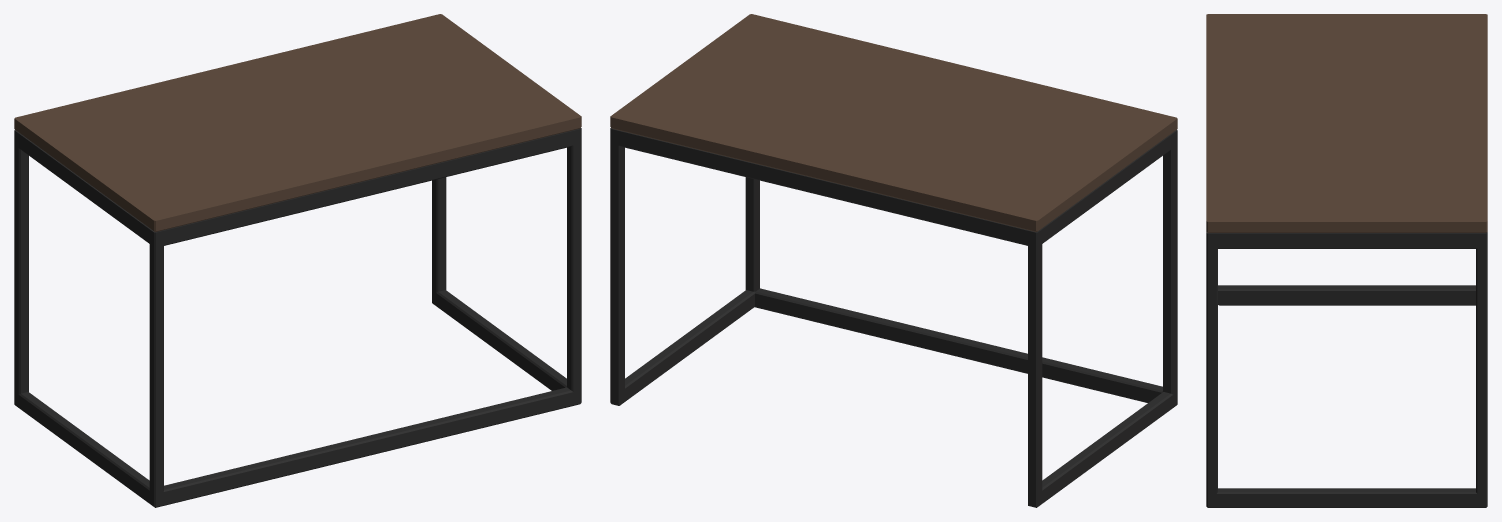
File: table_short.fbx
3 views of the same model, side by side, from view 1: azimuth 30°, elevation 25°; view 2: azimuth 150°, elevation 25°; view 3: azimuth 270°, elevation 25° (orthographic).
Visible parts, largest first — view 1: table_short; view 2: table_short; view 3: table_short.
Part boxes in pixels (<box>): table_short: <box>14,14,581,507</box>; table_short: <box>610,14,1177,507</box>; table_short: <box>1206,14,1487,507</box>.
Bounding box in the file's own units: 1.4 × 0.8 × 0.9.
